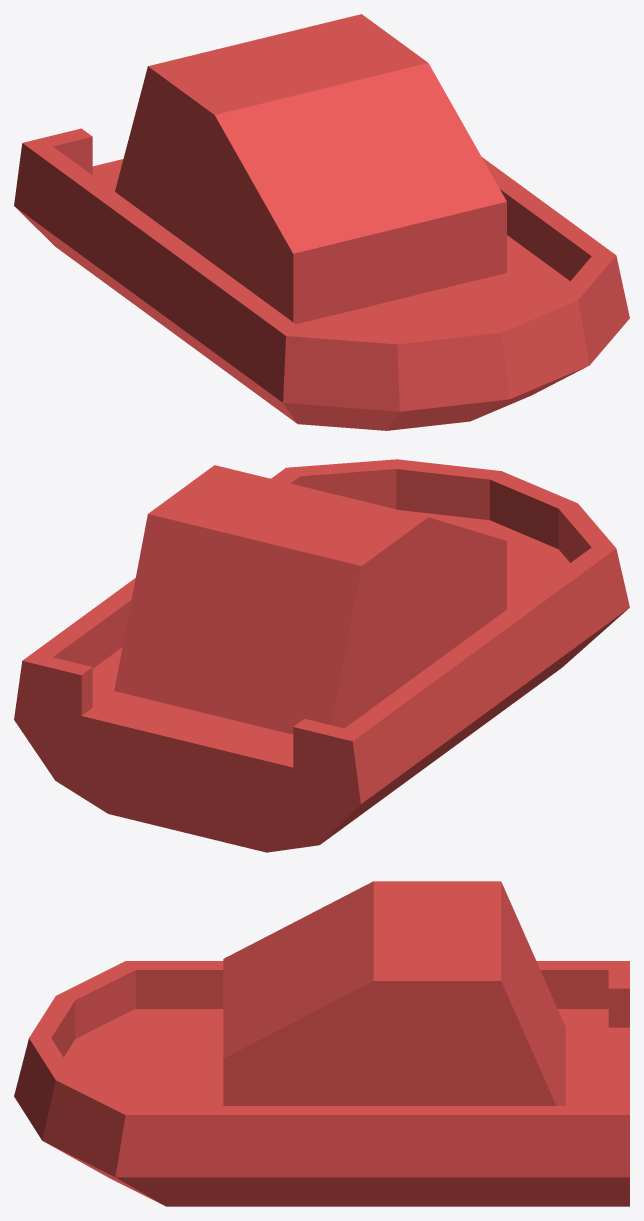
Rendered from watercraftpack_010.glb.
The picture shows the model from 3 angles, top to bottom: view 1: azimuth 30°, elevation 25°; view 2: azimuth 150°, elevation 25°; view 3: azimuth 270°, elevation 25°; orthographic projection. The views are drawn at different scales.
Parts seen in each view (by area): view 1: Mesh1 Group1 Model; view 2: Mesh1 Group1 Model; view 3: Mesh1 Group1 Model.
Part boxes in pixels (x1,y1,x2,y2): Mesh1 Group1 Model: (14, 14, 629, 430); Mesh1 Group1 Model: (14, 459, 629, 852); Mesh1 Group1 Model: (14, 881, 629, 1206).
Size of the model in its own units: 1.78 by 1.2 by 2.87.
